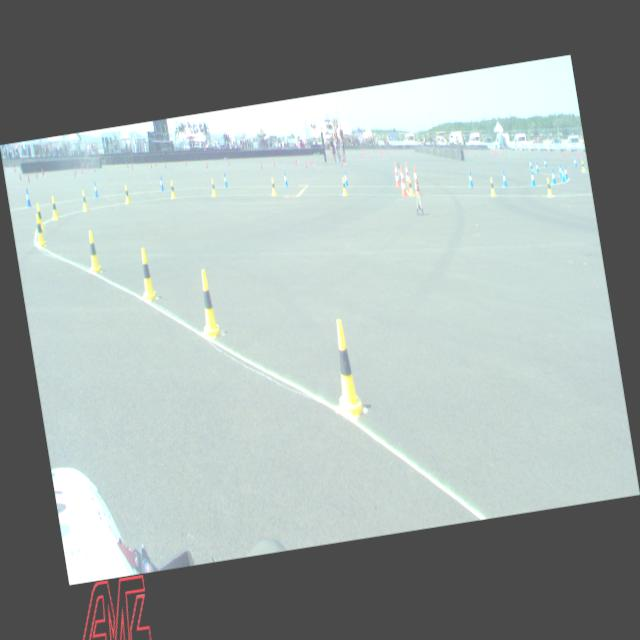blue_cone: (24, 188, 32, 208), (550, 169, 558, 184), (529, 170, 536, 187), (502, 172, 508, 188), (93, 182, 99, 198), (158, 176, 164, 191), (468, 170, 473, 187), (222, 173, 228, 187), (282, 172, 288, 186), (560, 168, 566, 182), (563, 166, 569, 180), (343, 171, 348, 186), (534, 162, 540, 173), (558, 165, 562, 178), (528, 160, 532, 170), (574, 158, 577, 166), (544, 158, 546, 168)
large_orange_cone: (411, 166, 421, 197), (398, 166, 408, 196), (391, 162, 401, 188), (403, 161, 410, 187)
yellow_cone: (326, 318, 366, 418), (194, 268, 222, 340), (135, 246, 158, 302), (84, 229, 102, 273), (34, 213, 46, 246), (49, 196, 59, 220), (544, 176, 554, 198), (37, 203, 45, 229), (80, 190, 88, 212), (123, 184, 131, 204), (489, 178, 496, 196), (210, 178, 217, 196), (270, 178, 277, 195), (341, 178, 348, 195), (407, 178, 414, 195), (169, 182, 176, 198), (580, 161, 586, 172)
